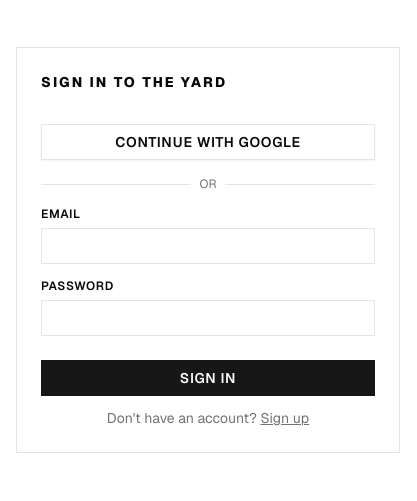
Test: LoginPage › validates empty password
Step 1. Type "test@test.com" into the field labelled "Email" → (208, 246), box top-left (41, 228), bottom-right (375, 264)
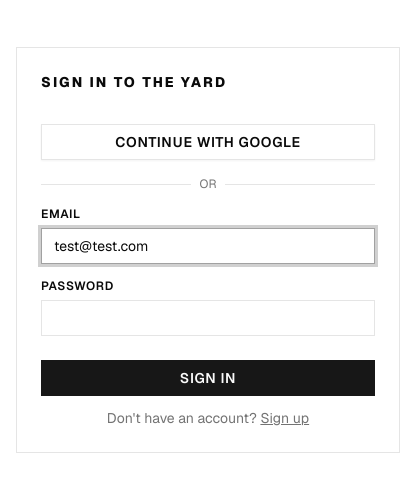
Step 2. Submit the text "Sign In"
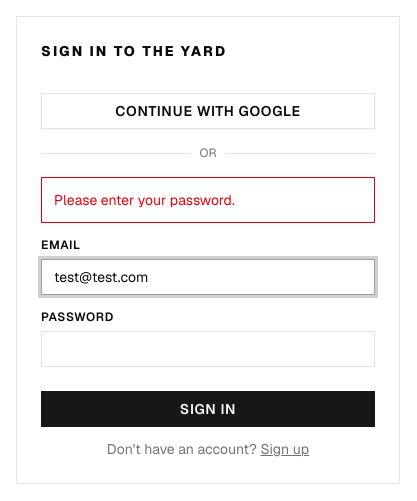
expect the text "Please enter your password." is shown: met, box top-left (41, 177), bottom-right (375, 223)
